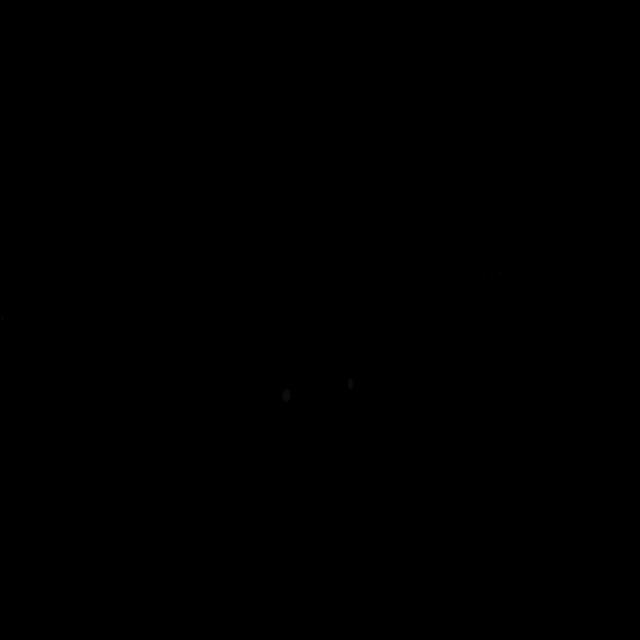Car: (102, 280, 363, 453)
